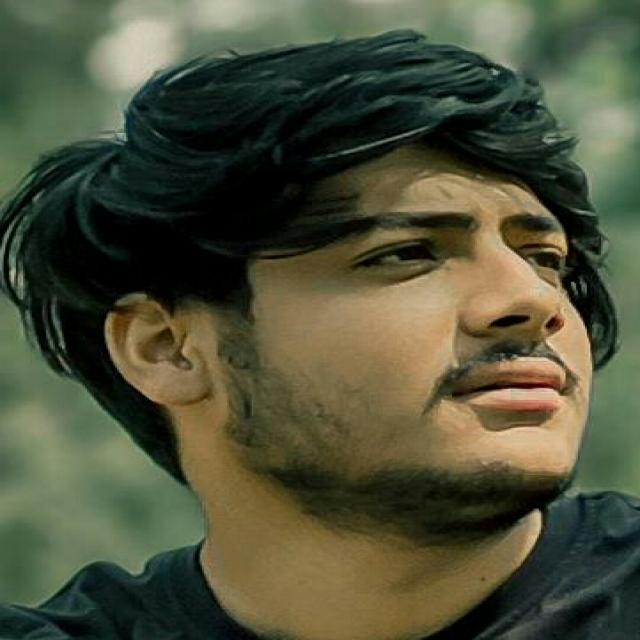front: (368, 213, 629, 488)
